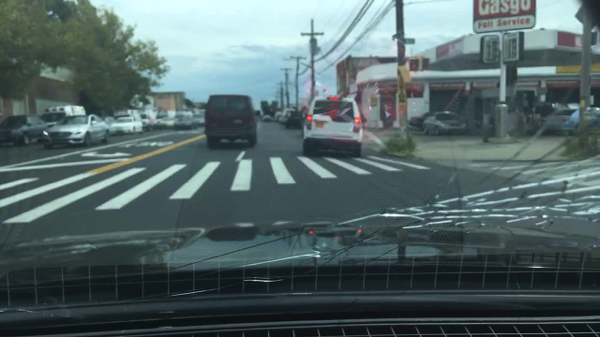car: (301, 95, 365, 157), (205, 93, 257, 149), (41, 114, 109, 150), (540, 106, 599, 136), (0, 115, 48, 146), (424, 112, 467, 138), (109, 116, 144, 136), (406, 112, 434, 129), (173, 110, 195, 125), (286, 112, 304, 129), (139, 113, 155, 129), (281, 108, 297, 123), (159, 116, 176, 127), (99, 114, 111, 125), (196, 112, 205, 125), (151, 116, 162, 125), (263, 115, 272, 122), (274, 112, 281, 120)
traffic light: (410, 60, 419, 70)
traffic sign: (403, 37, 414, 44)
truck: (44, 105, 87, 124)
